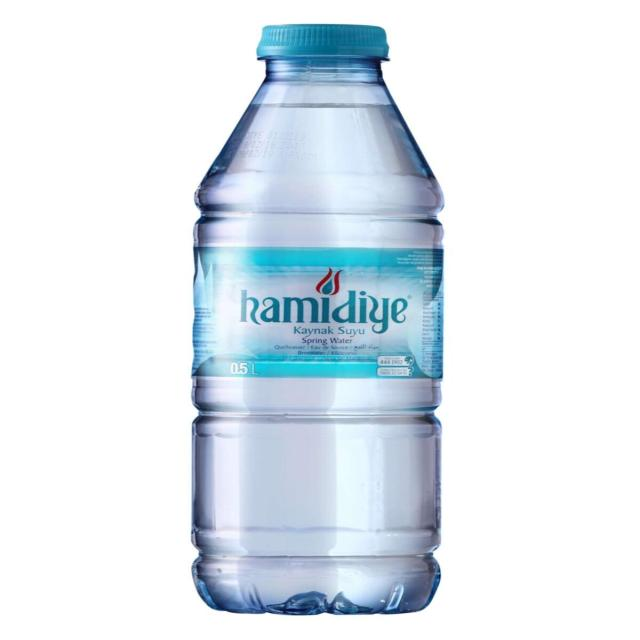bottle: (174, 9, 462, 629)
